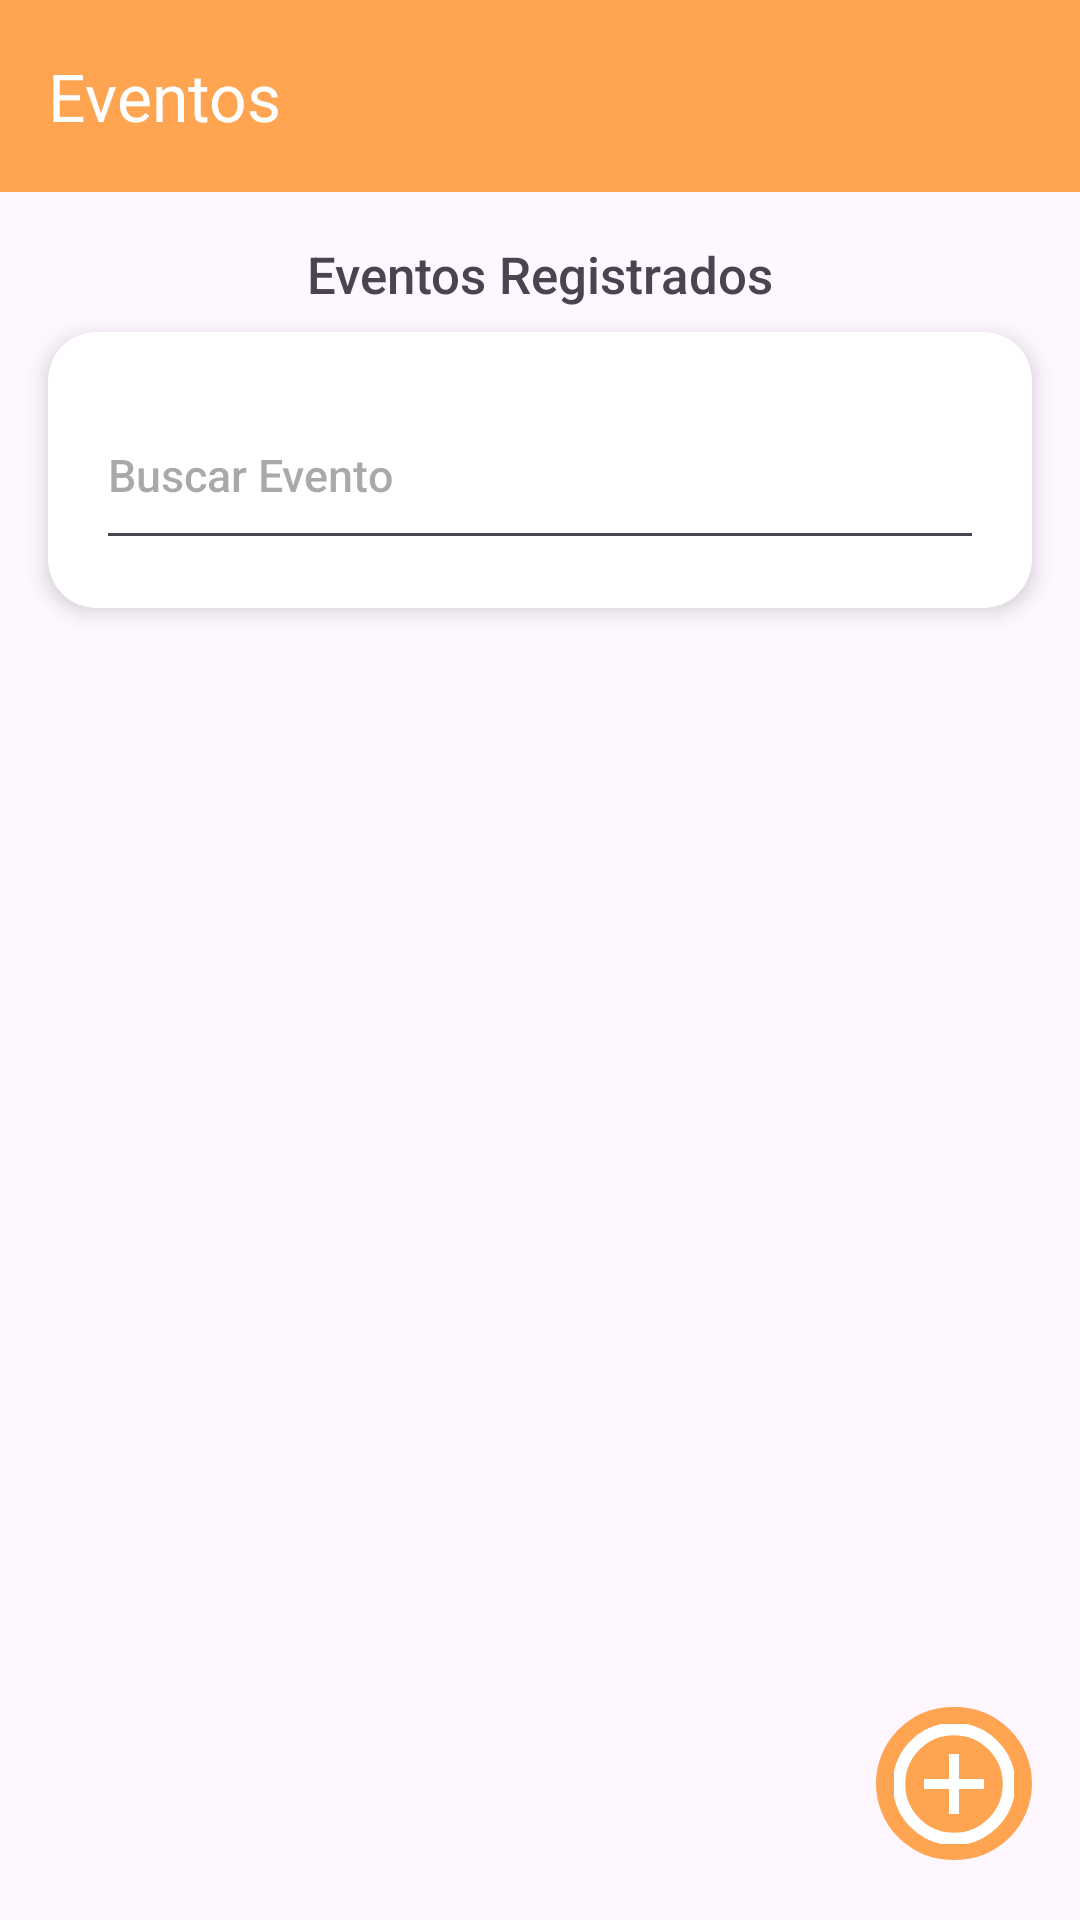

Where icons sit on this 1080px x 1920px app screen, as (x1, y1, x2, y2):
Agregar: (876, 1707, 1032, 1860)
